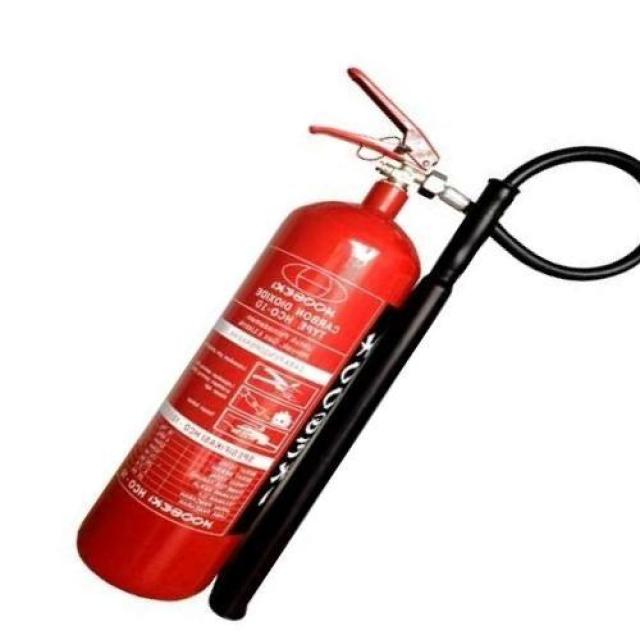fire_extinguisher: (70, 61, 639, 621)
